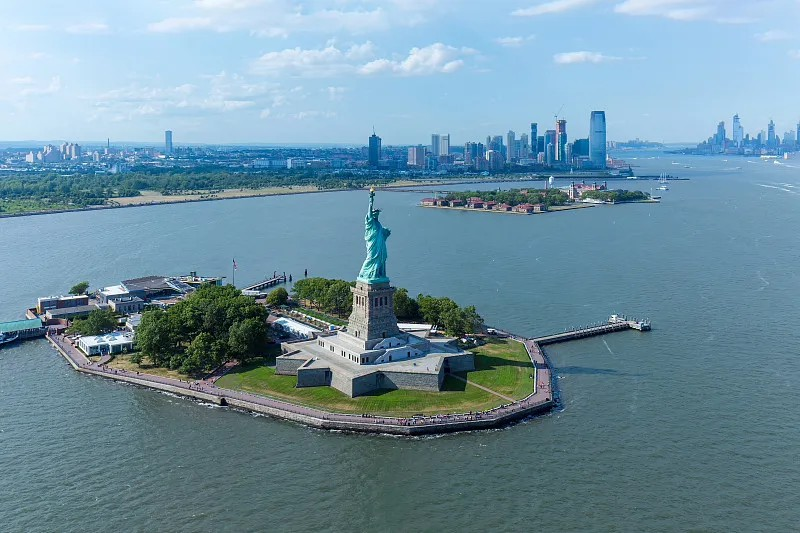SL: (346, 186, 398, 340)
